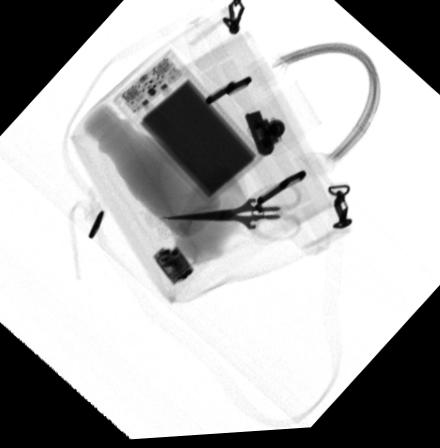Powerbank: (113, 51, 263, 206)
Scissors: (156, 184, 302, 248)
